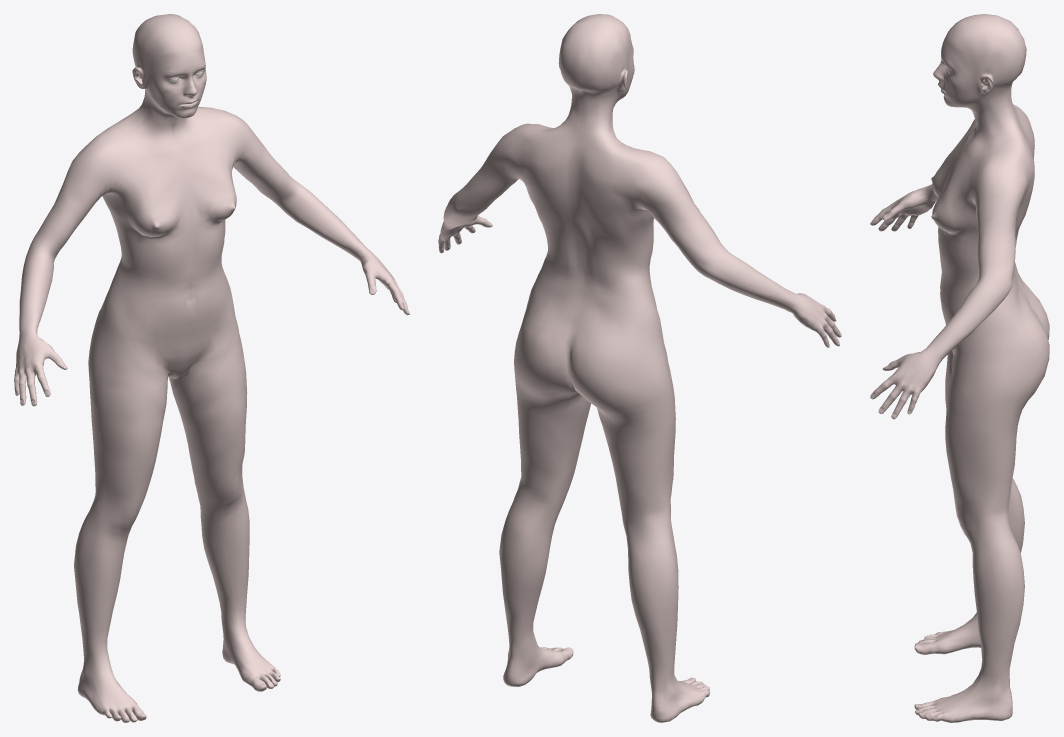
Rendered from atelier-makehuman-female.glb.
3 renders of one model, left to right at view 1: azimuth 30°, elevation 25°; view 2: azimuth 150°, elevation 25°; view 3: azimuth 270°, elevation 25°, orthographic.
Parts seen in each view (by area): view 1: MakeHuman adult female body (CC0); view 2: MakeHuman adult female body (CC0); view 3: MakeHuman adult female body (CC0).
Boxes of the visible parts, <box> form: MakeHuman adult female body (CC0): <box>14,14,409,722</box>; MakeHuman adult female body (CC0): <box>438,14,841,722</box>; MakeHuman adult female body (CC0): <box>870,14,1049,722</box>.
Bounding box in the file's own units: 0.9814 × 1.61 × 0.3939.
